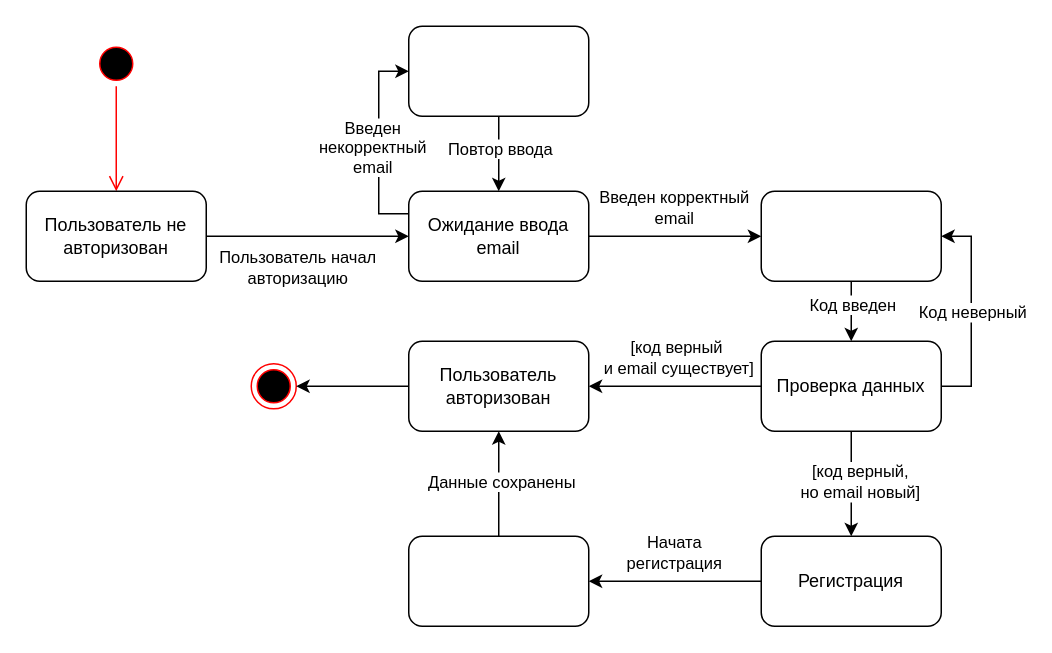
Image size: 1052x653. Some labels were removed from this diagram. The shapes that lost their labels are listed below. From the top down, each one's box as (x1, y1, x2, y2) in pixels, then its label:
(407, 25, 589, 116): Ошибка
(760, 190, 941, 281): Ожидание ввода кода
(407, 535, 589, 626): Ожидание ввода имени и фамилии
